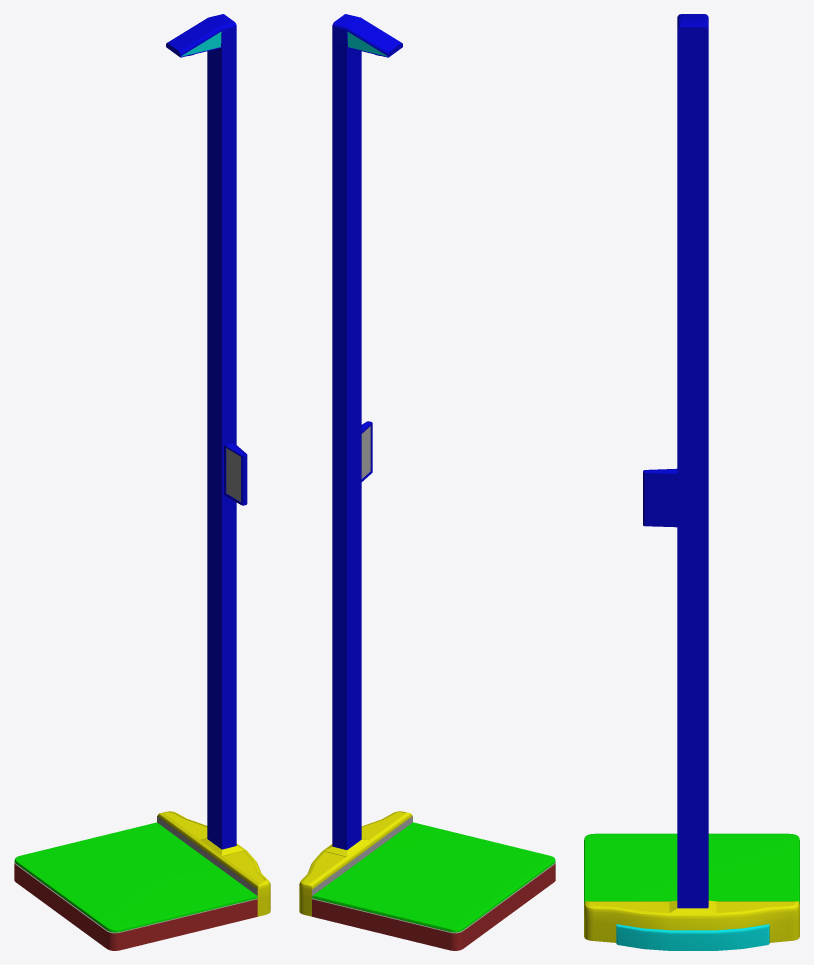
Rendered from Height and Weight Measurement tool.fbx.
3 renders of one model, left to right at view 1: azimuth 30°, elevation 25°; view 2: azimuth 150°, elevation 25°; view 3: azimuth 270°, elevation 25°, orthographic. The views are drawn at different scales.
Visible parts, largest first — view 1: pCube1; view 2: pCube1; view 3: pCube1.
Boxes of the visible parts, left/top/right/bottom form: pCube1: left=14, top=14, right=270, bottom=950; pCube1: left=299, top=14, right=555, bottom=950; pCube1: left=584, top=14, right=799, bottom=950.
Size of the model in its own units: 48.47 by 219 by 46.6.
